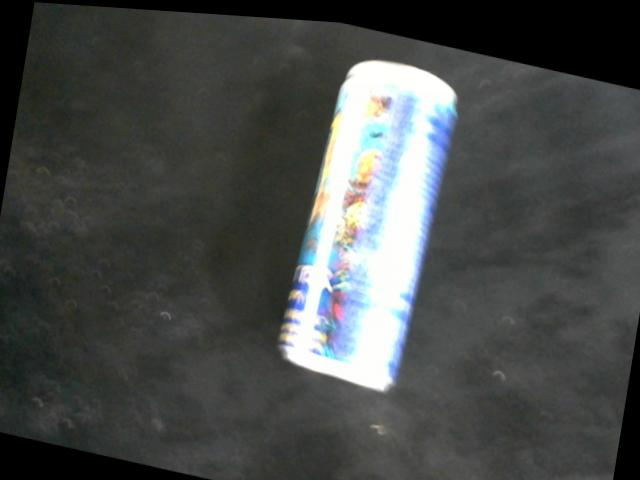can: (271, 54, 460, 391)
